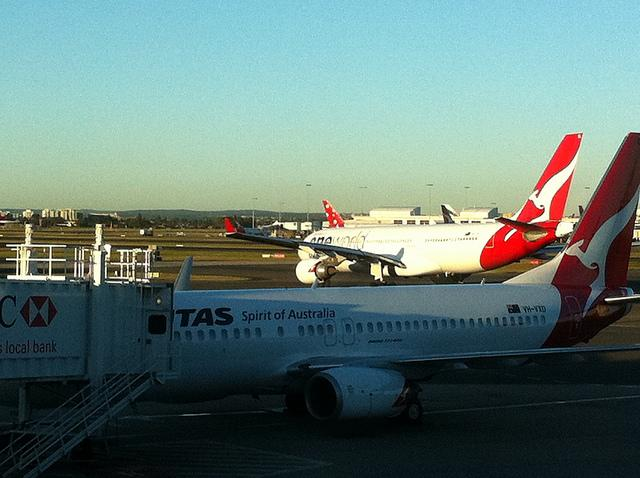airplane: (172, 125, 640, 425), (219, 131, 586, 284)
